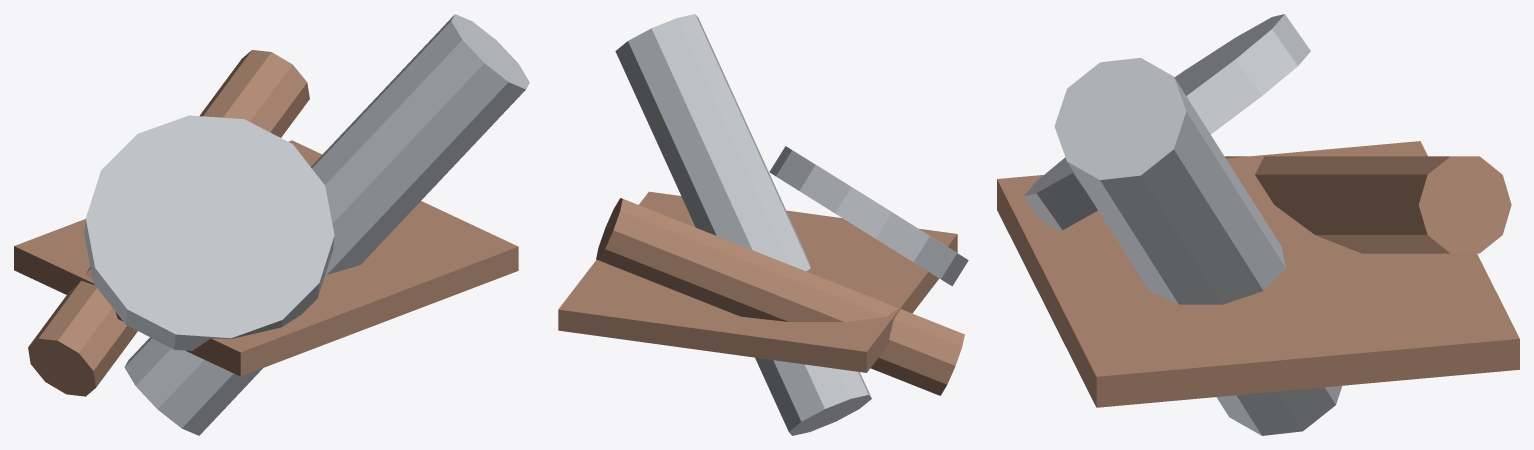
Rendered from Loot_ScrapPile.fbx.
3 views of the same model, side by side, from view 1: azimuth 30°, elevation 25°; view 2: azimuth 150°, elevation 25°; view 3: azimuth 270°, elevation 25° (orthographic). The views are drawn at different scales.
Parts seen in each view (by area): view 1: Loot_ScrapPile; view 2: Loot_ScrapPile; view 3: Loot_ScrapPile.
Boxes of the visible parts, bbox=[...] form: Loot_ScrapPile: bbox=[14, 14, 529, 435]; Loot_ScrapPile: bbox=[558, 14, 968, 435]; Loot_ScrapPile: bbox=[997, 14, 1519, 435].
Bounding box in the file's own units: 0.5698 × 0.4877 × 0.459.
